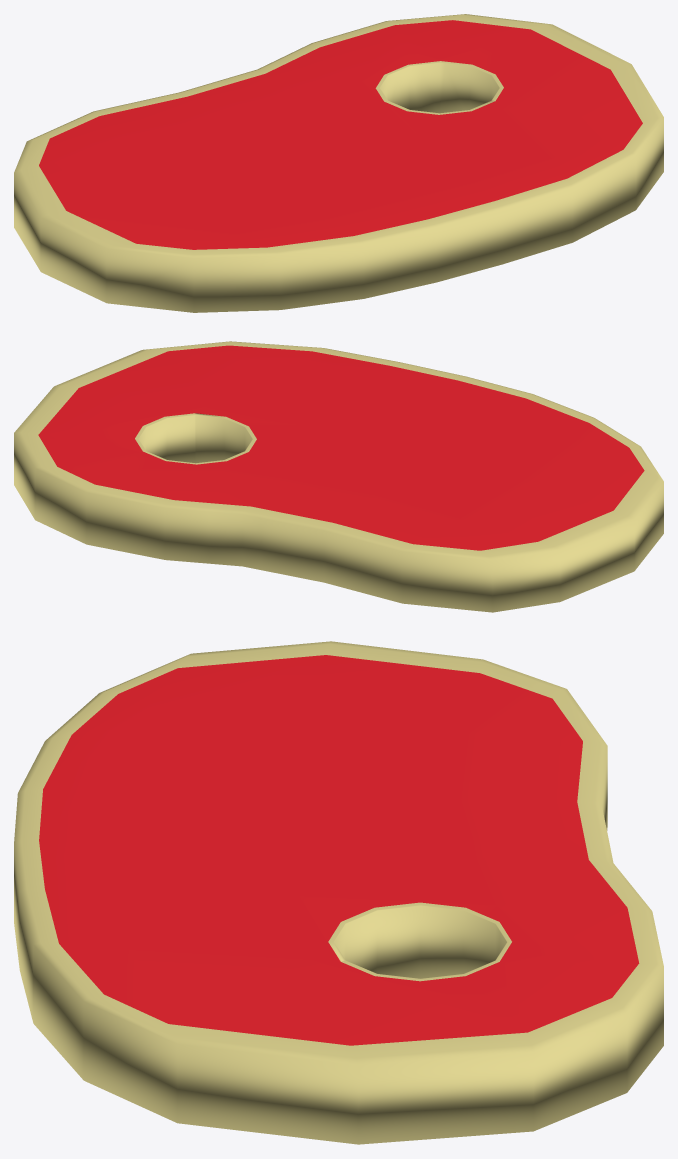
Rendered from BeefRaw.glb.
The picture shows the model from 3 angles, top to bottom: view 1: azimuth 30°, elevation 25°; view 2: azimuth 150°, elevation 25°; view 3: azimuth 270°, elevation 25°; orthographic projection. The views are drawn at different scales.
Parts seen in each view (by area): view 1: Cube.023; view 2: Cube.023; view 3: Cube.023.
Boxes of the visible parts, x1,y1,x2,y2 form: Cube.023: (14,14,663,312); Cube.023: (14,341,663,612); Cube.023: (14,641,663,1144).
Size of the model in its own units: 0.3371 by 0.0316 by 0.2183.
